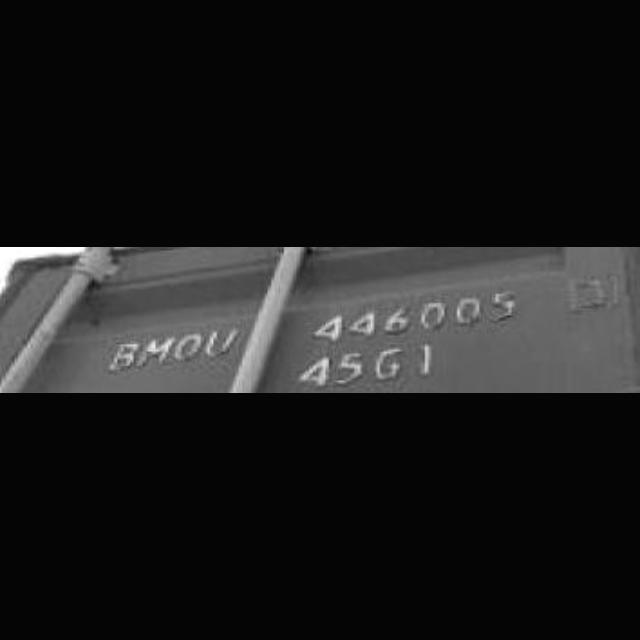0: (454, 294, 486, 334), (418, 297, 448, 337)
1: (416, 342, 440, 381)
3: (555, 271, 619, 315)
4: (294, 354, 334, 392), (308, 314, 347, 346), (352, 309, 380, 343)
5: (487, 286, 521, 328), (337, 349, 368, 391)
6: (381, 302, 415, 342)
b: (105, 336, 141, 376)
g: (374, 344, 404, 392)
m: (139, 336, 175, 368)
o: (174, 331, 202, 365)
u: (205, 330, 237, 360)
